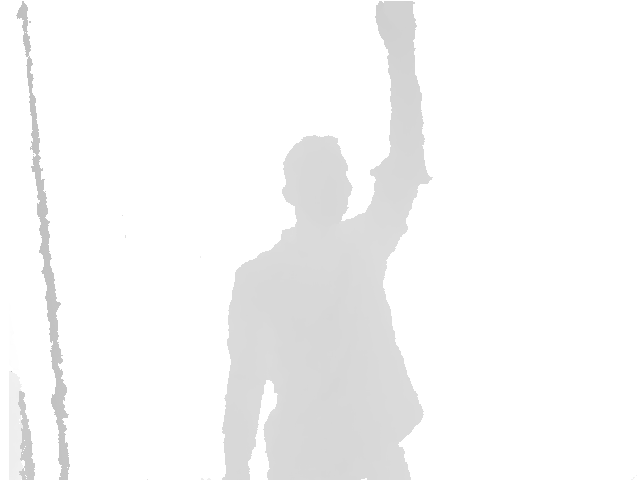hand: (376, 1, 418, 48)
head: (282, 136, 353, 216)
person: (219, 1, 434, 480)
